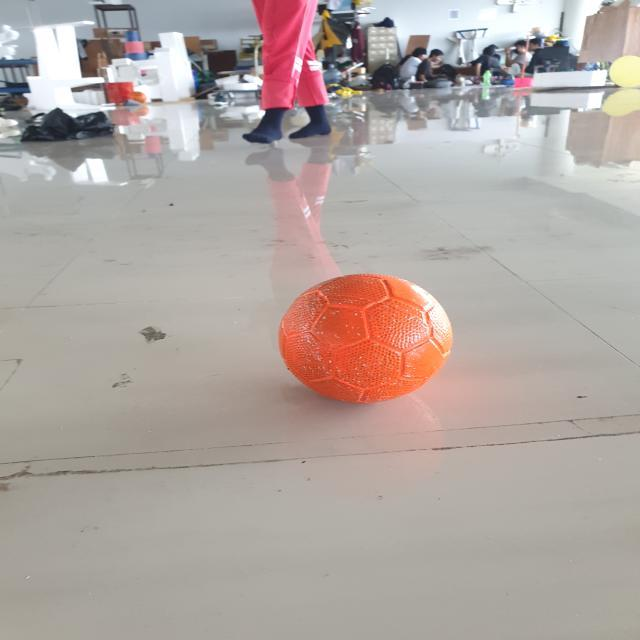bola: (276, 271, 454, 407)
